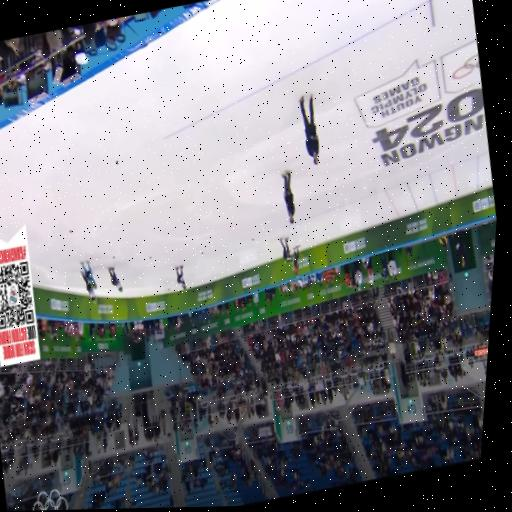Skater: (289, 244, 306, 279), (277, 236, 295, 266), (80, 271, 95, 302), (81, 261, 96, 289), (108, 267, 122, 291), (175, 266, 186, 290)
